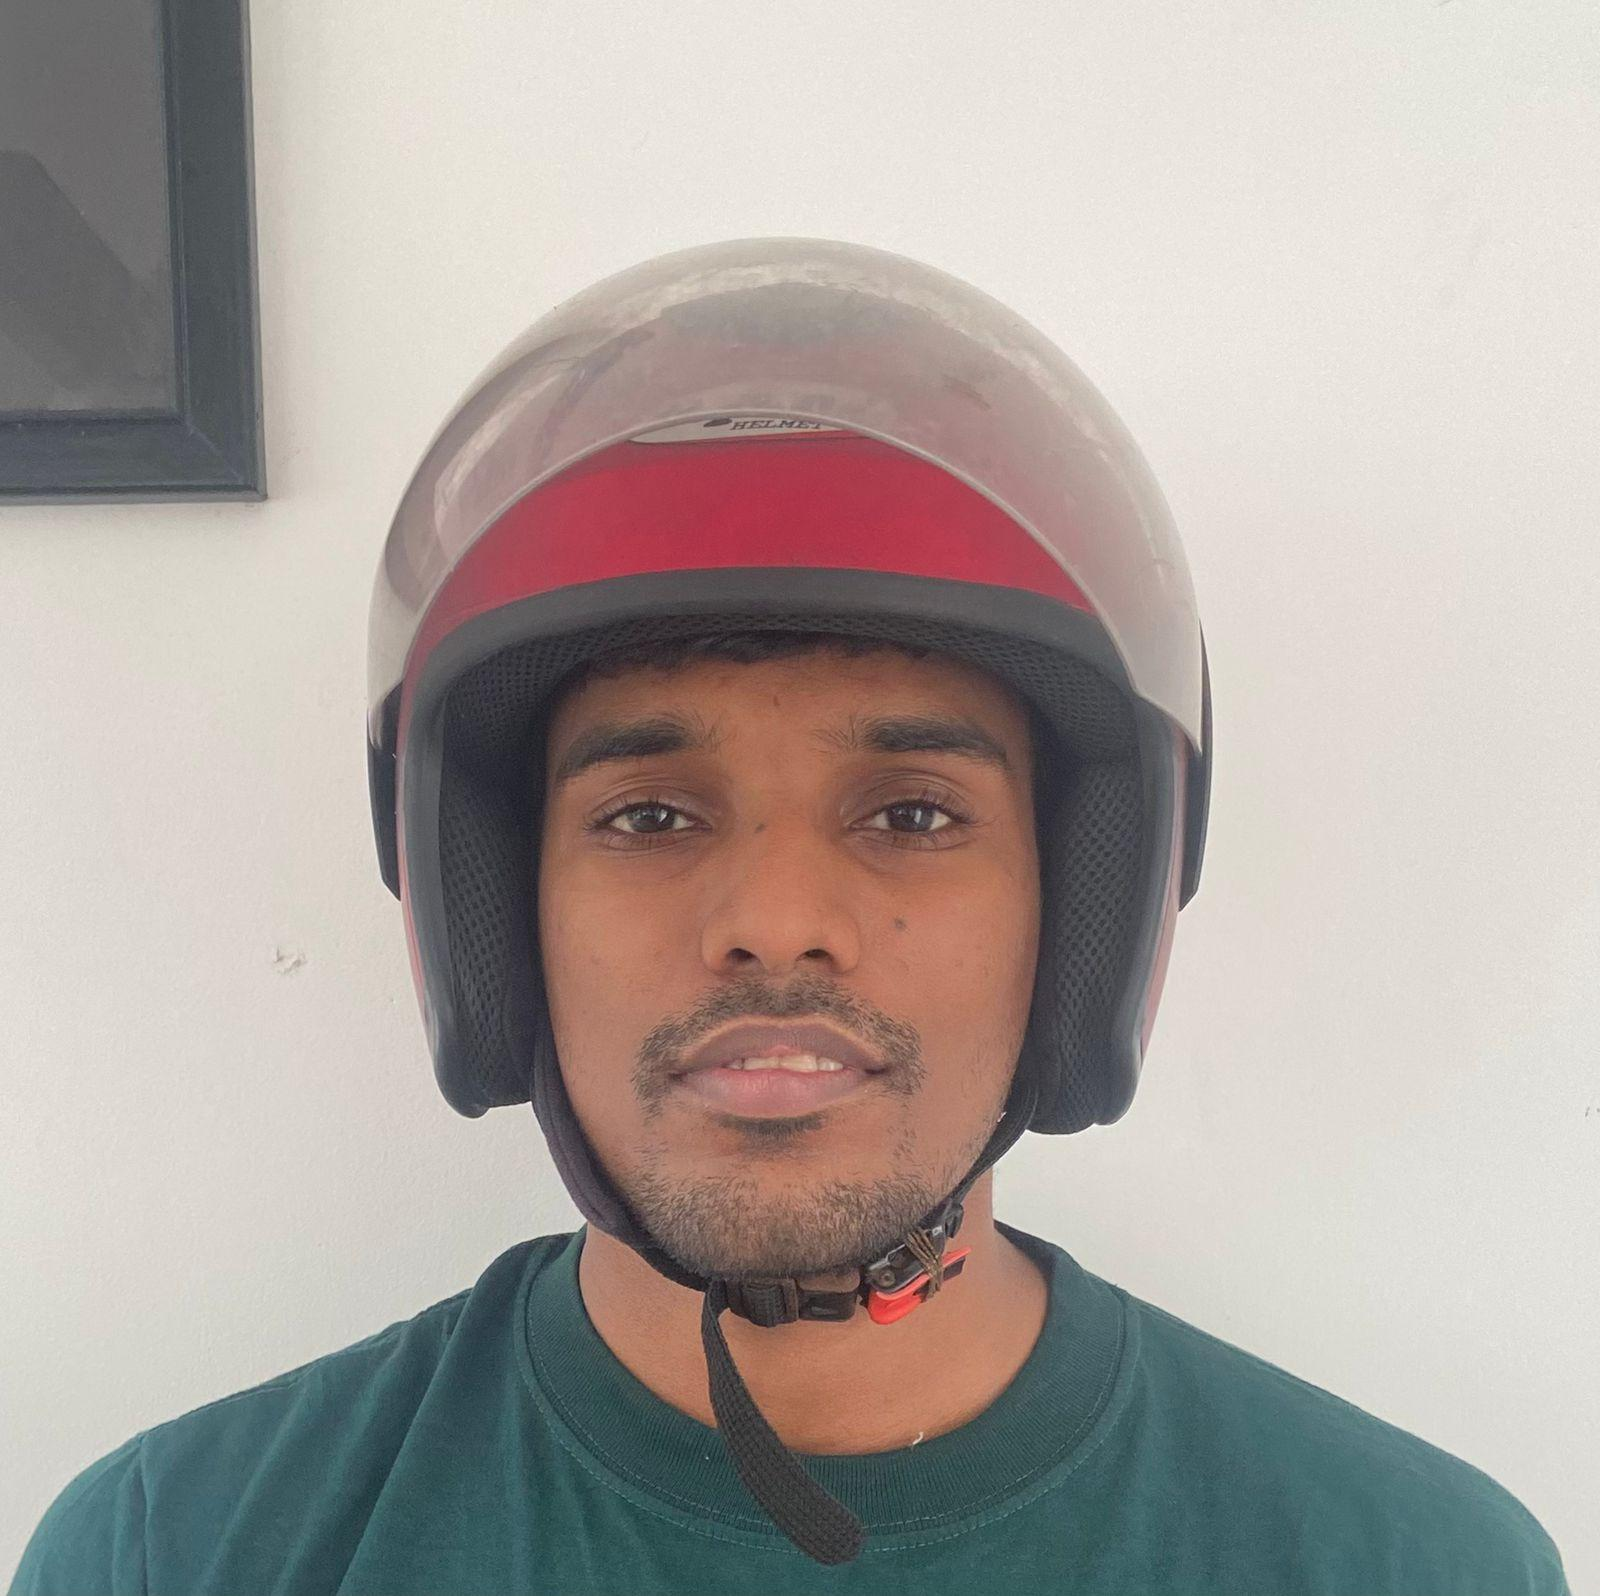helmet: (361, 231, 1214, 1140)
